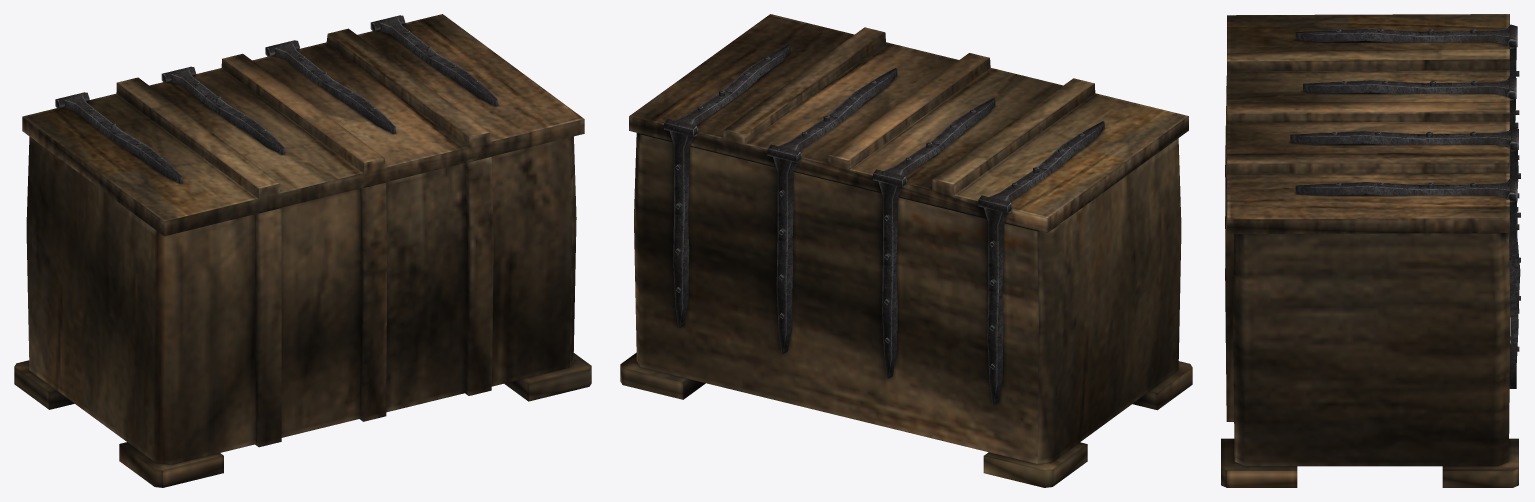
Rendered from chest.obj.
3 views of the same model, side by side, from view 1: azimuth 30°, elevation 25°; view 2: azimuth 150°, elevation 25°; view 3: azimuth 270°, elevation 25° (orthographic).
Parts seen in each view (by area): view 1: chest.obj; view 2: chest.obj; view 3: chest.obj.
Part boxes in pixels (x1,y1,x2,y2): chest.obj: (14, 14, 591, 487); chest.obj: (620, 14, 1192, 487); chest.obj: (1221, 14, 1520, 487).
Bounding box in the file's own units: 40.92 × 25.03 × 24.56.
2 materials, 2 textured.
